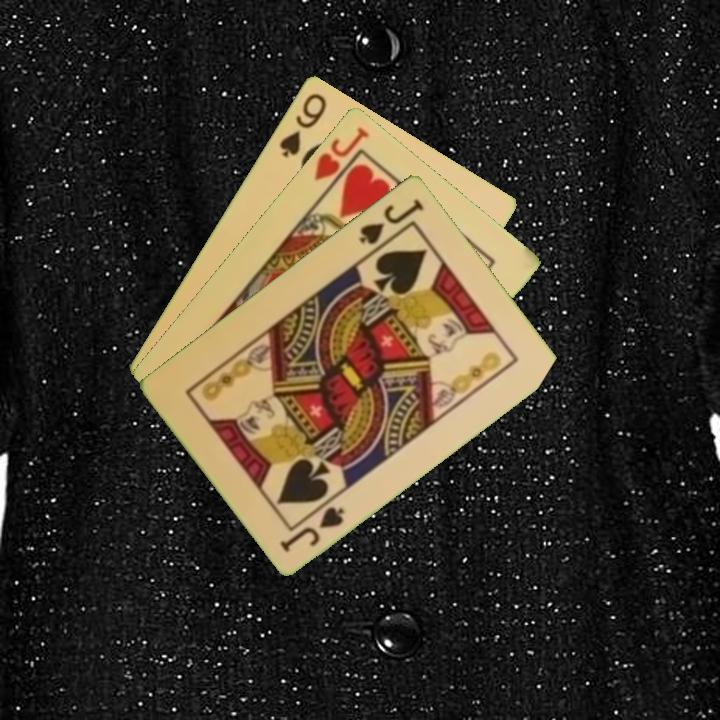9s: (276, 88, 330, 160)
Jh: (310, 123, 372, 183)
Js: (355, 194, 427, 247), (276, 502, 348, 554)
